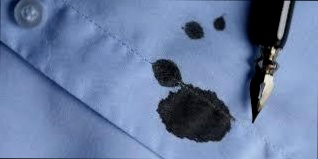ink: (159, 88, 233, 142), (153, 59, 181, 86), (183, 22, 203, 39), (214, 17, 226, 31)
